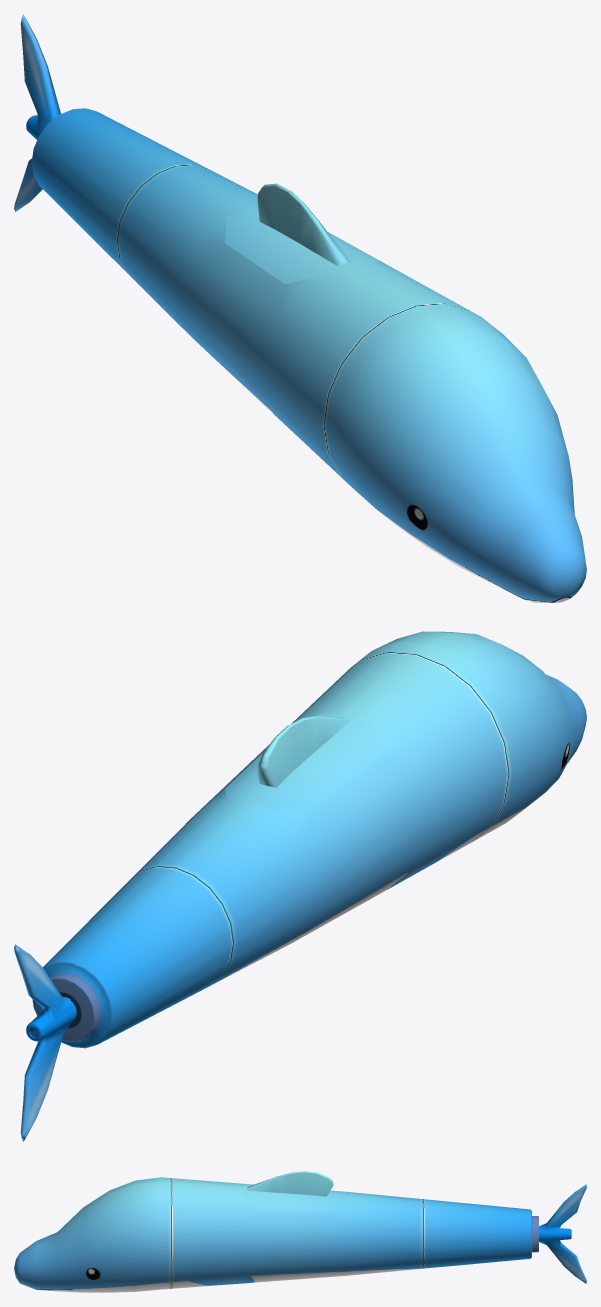
File: irukaGyorai.fbx
3 renders of one model, top to bottom at view 1: azimuth 30°, elevation 25°; view 2: azimuth 150°, elevation 25°; view 3: azimuth 270°, elevation 25°, orthographic. The views are drawn at different scales.
Parts seen in each view (by area): view 1: iruka_body, huta, screw; view 2: iruka_body, huta, screw; view 3: iruka_body, huta, screw.
Boxes of the visible parts, <box> form: iruka_body: <box>31,108,586,602</box>; huta: <box>224,183,380,284</box>; screw: <box>14,14,60,211</box>; iruka_body: <box>32,631,586,1048</box>; huta: <box>224,713,380,809</box>; screw: <box>14,944,76,1141</box>; iruka_body: <box>14,1177,538,1292</box>; huta: <box>244,1171,346,1212</box>; screw: <box>539,1184,586,1283</box>.
Bounding box in the file's own units: 3.75 × 4.31 × 18.98.
Materials: 1 (1 with a texture image).
